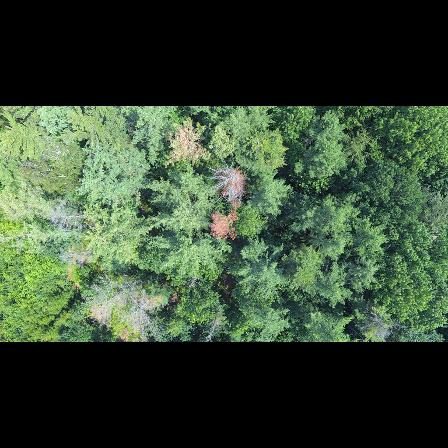Dead: (206, 161, 249, 207), (90, 275, 133, 316), (360, 305, 401, 340), (38, 206, 90, 233), (123, 294, 157, 328), (198, 314, 223, 342)
